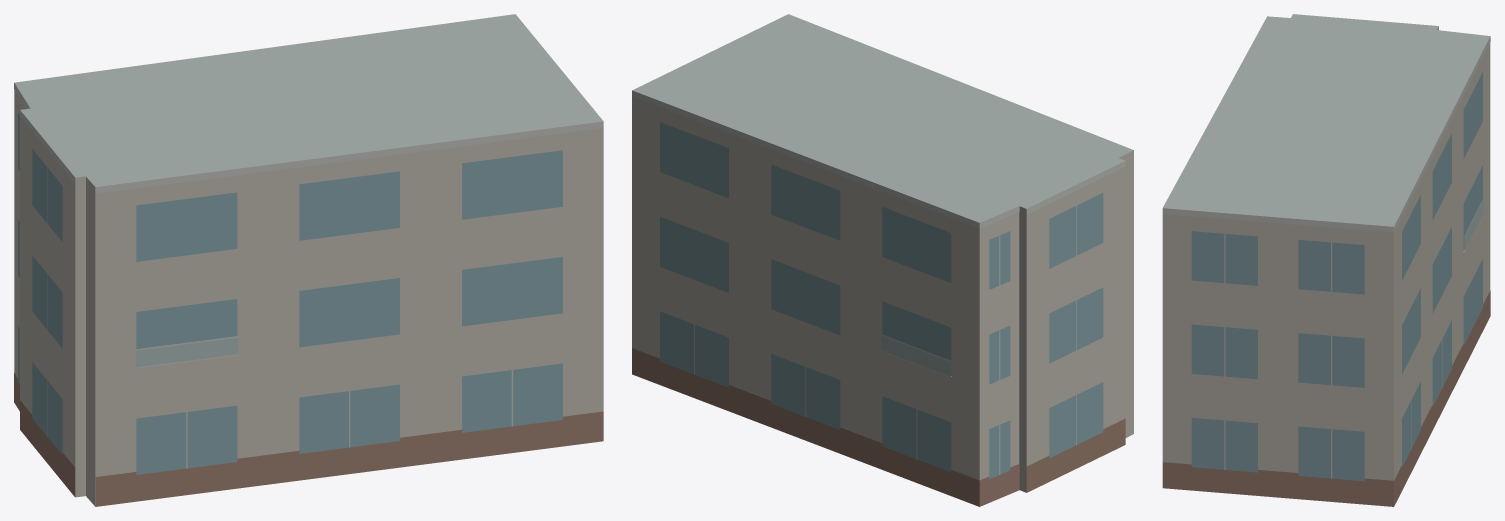
File: survey-upis-32539313.glb
3 views of the same model, side by side, from view 1: azimuth 30°, elevation 25°; view 2: azimuth 150°, elevation 25°; view 3: azimuth 270°, elevation 25° (orthographic). The views are drawn at different scales.
Visible parts, largest first — view 1: survey-upis-32539313.tmp; view 2: survey-upis-32539313.tmp; view 3: survey-upis-32539313.tmp.
Part boxes in pixels (bbox=[...]): survey-upis-32539313.tmp: bbox=[14, 14, 603, 506]; survey-upis-32539313.tmp: bbox=[632, 14, 1133, 506]; survey-upis-32539313.tmp: bbox=[1162, 14, 1490, 506].
Bounding box in the file's own units: 19.24 × 11.8 × 12.53.
